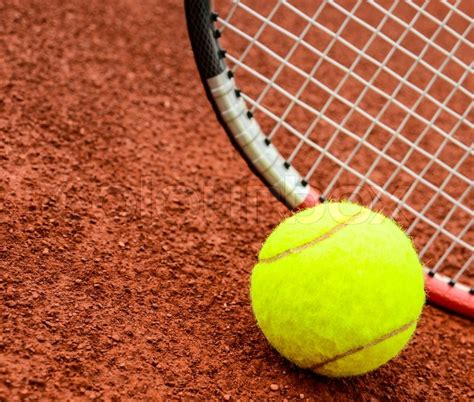tennis_ball: (249, 201, 426, 378)
